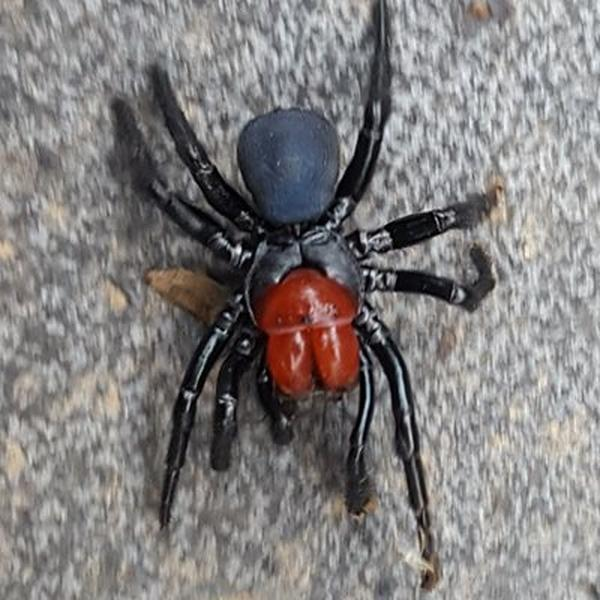Red Headed Mouse Spider: (138, 17, 490, 555)
